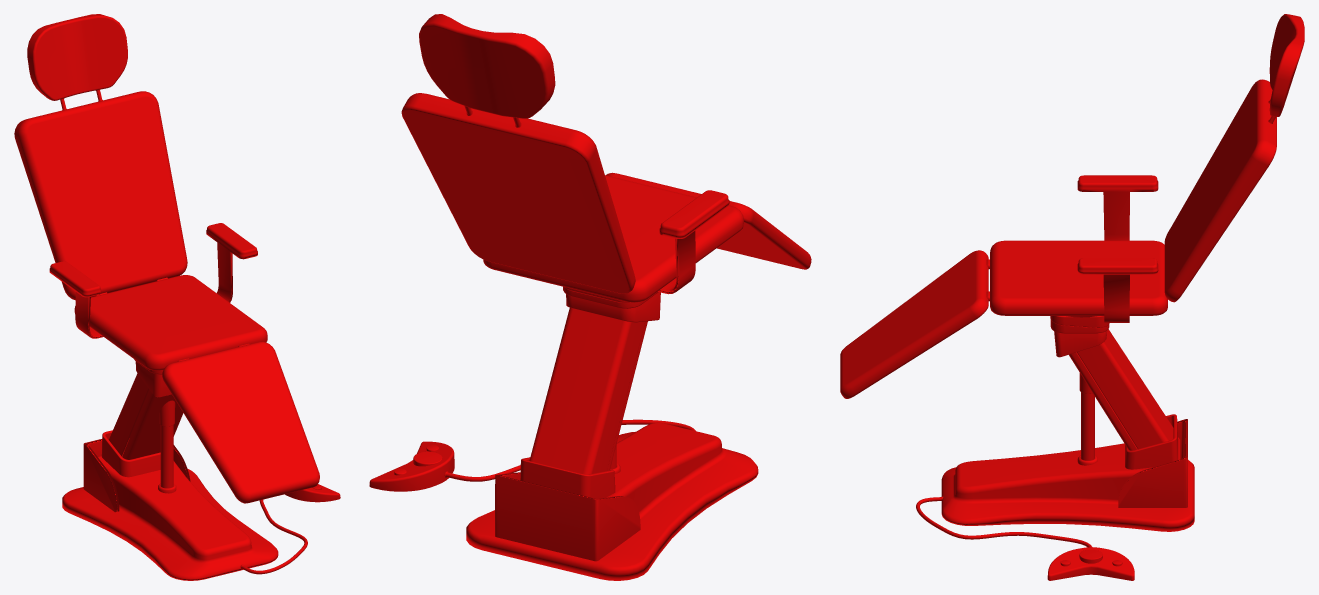
File: Surgical_chair_1.fbx
3 views of the same model, side by side, from view 1: azimuth 30°, elevation 25°; view 2: azimuth 150°, elevation 25°; view 3: azimuth 270°, elevation 25° (orthographic). The views are drawn at different scales.
Parts seen in each view (by area): view 1: polySurface1583; view 2: polySurface1583; view 3: polySurface1583.
Boxes of the visible parts, bbox=[...] form: polySurface1583: bbox=[14, 14, 340, 580]; polySurface1583: bbox=[369, 14, 811, 580]; polySurface1583: bbox=[840, 14, 1304, 580].
Bounding box in the file's own units: 107 × 182 × 163.
